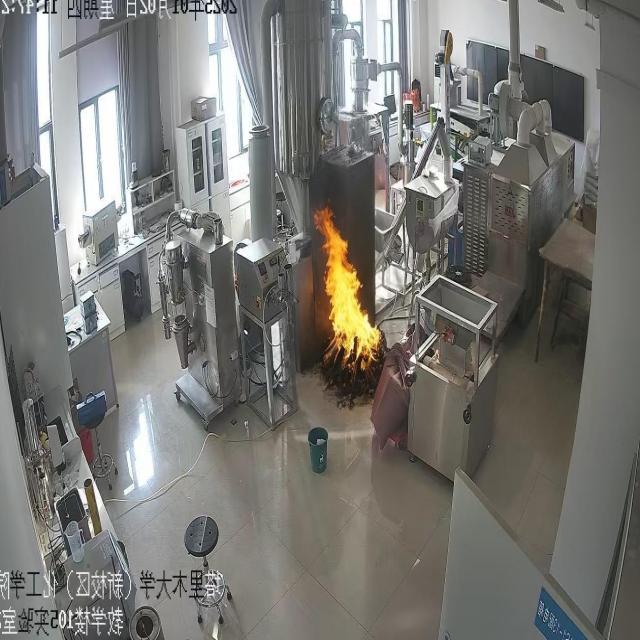smoke: (314, 203, 381, 366)
